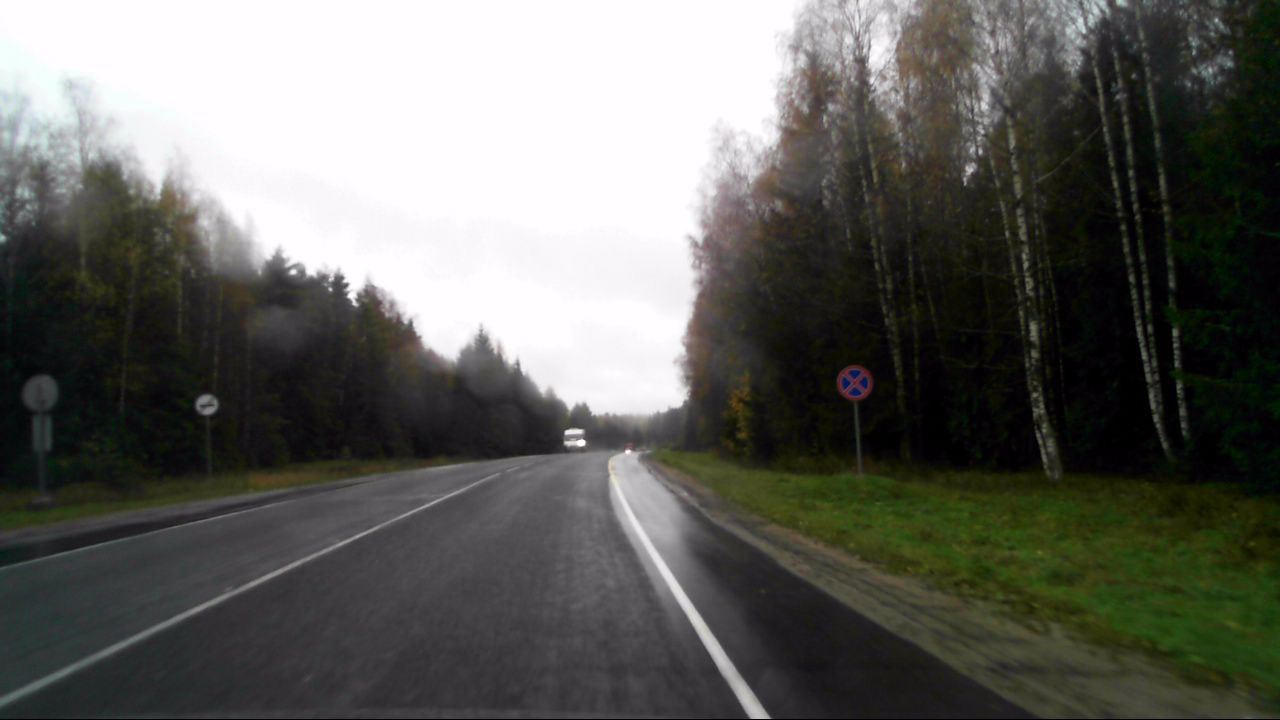No Parking: (836, 362, 873, 402)
